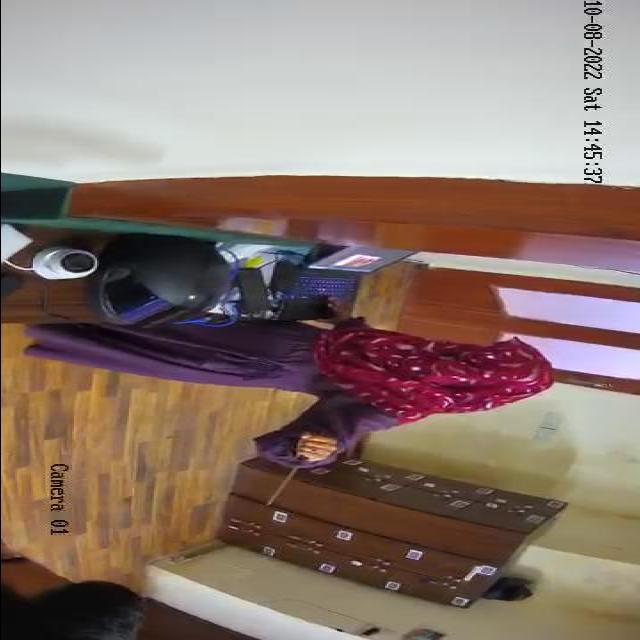Sharp-Object: (260, 442, 324, 507)
